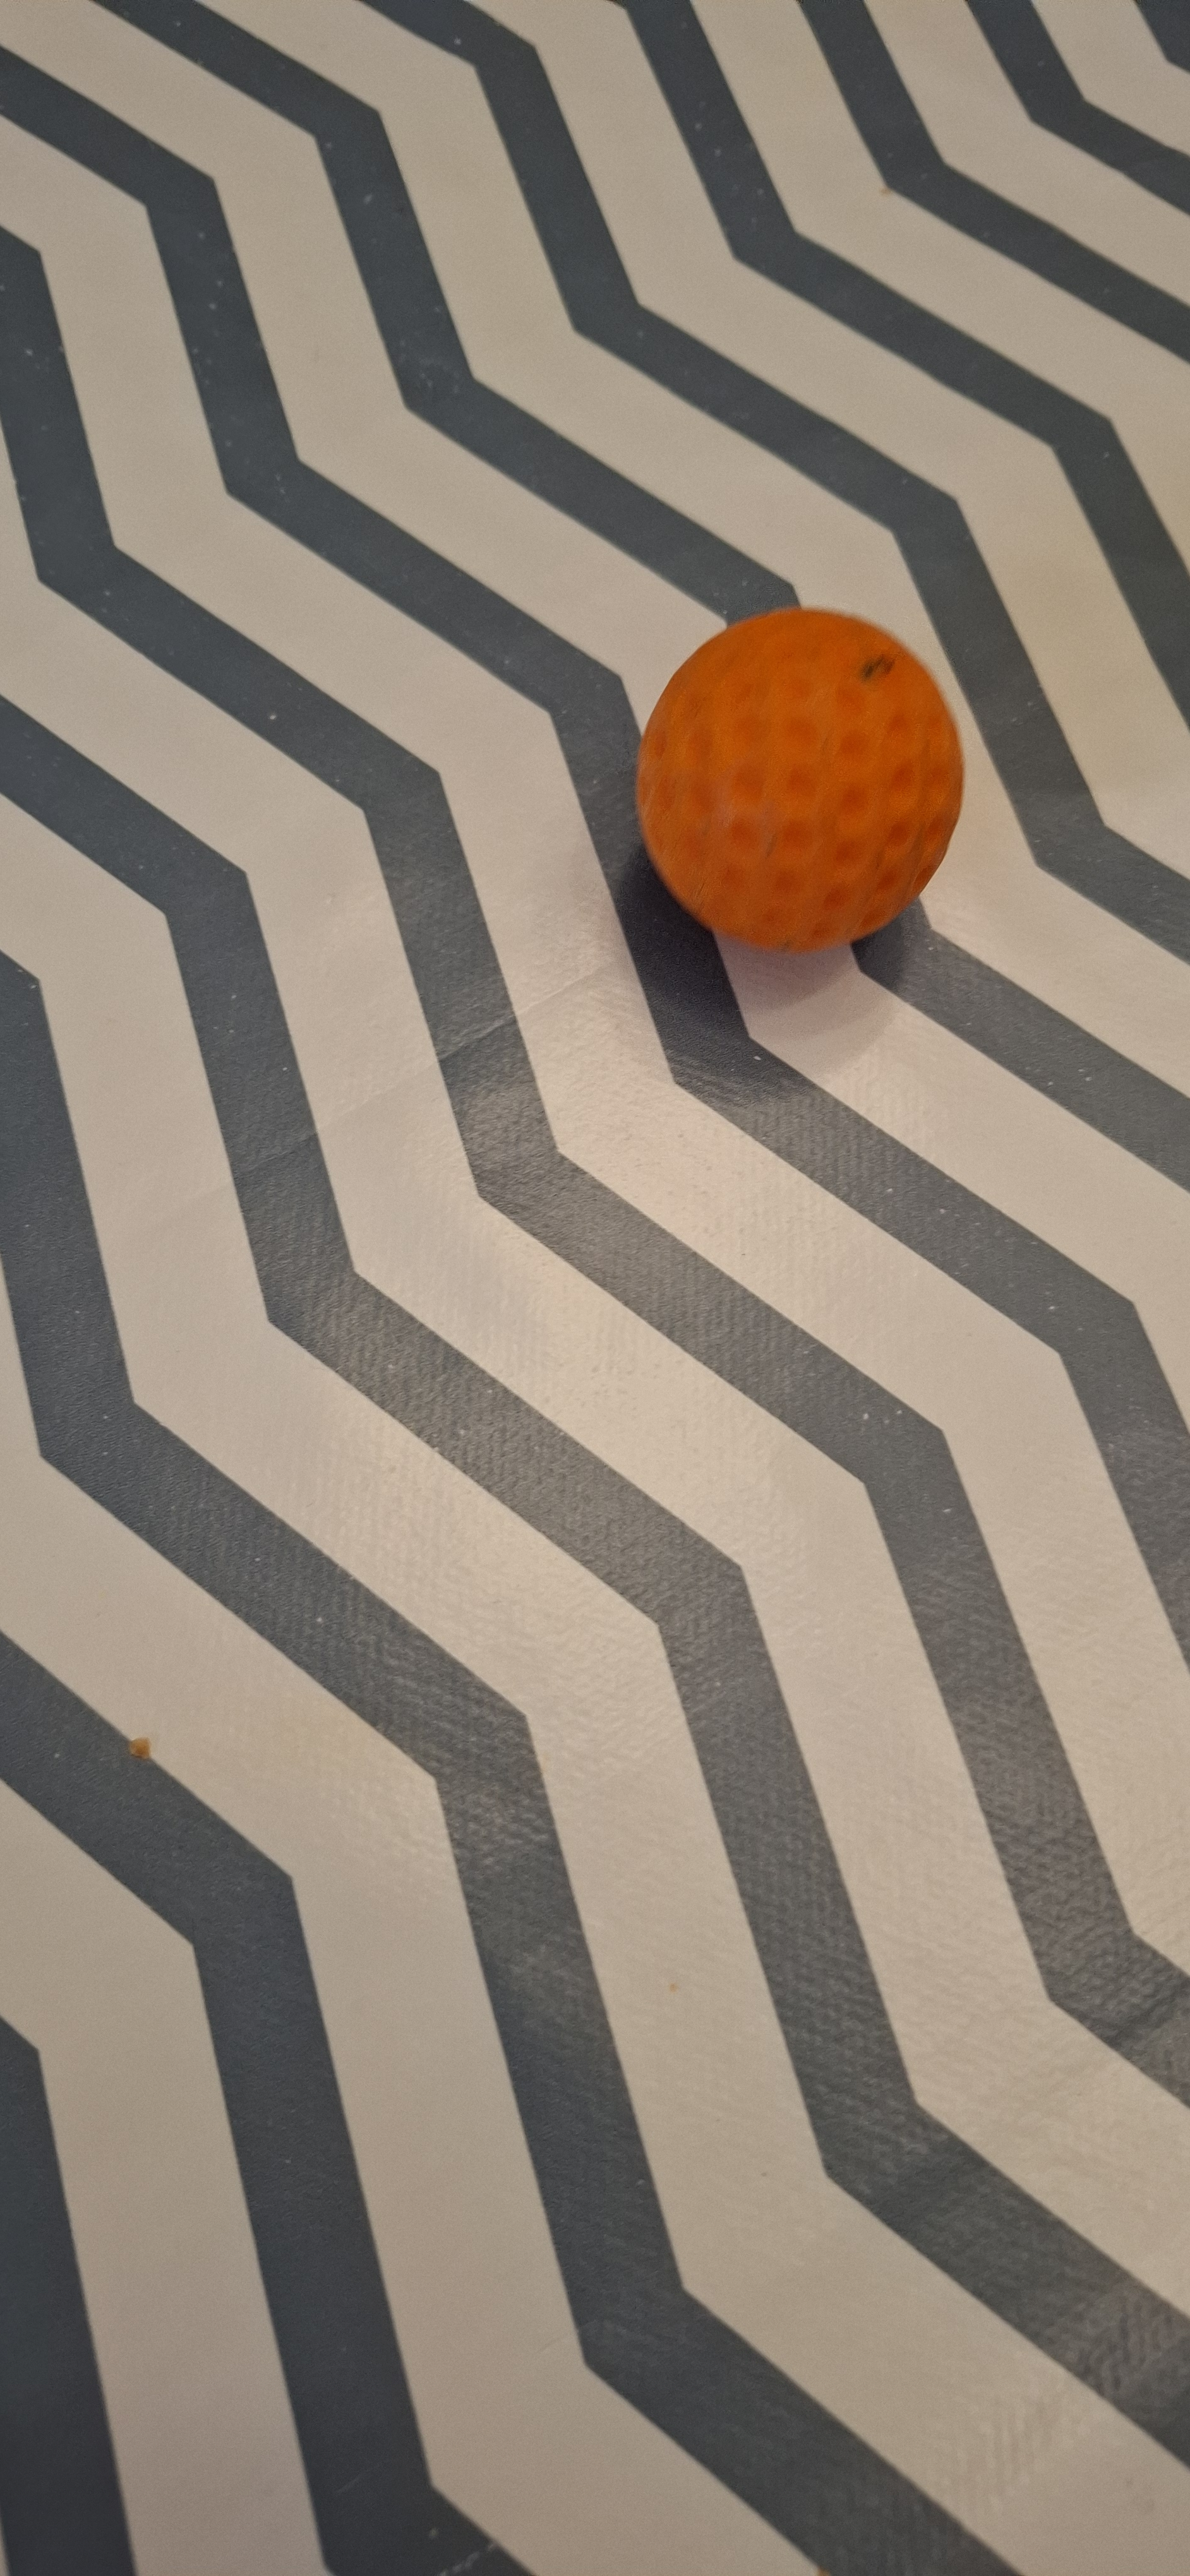ball: (283, 490, 439, 1194)
